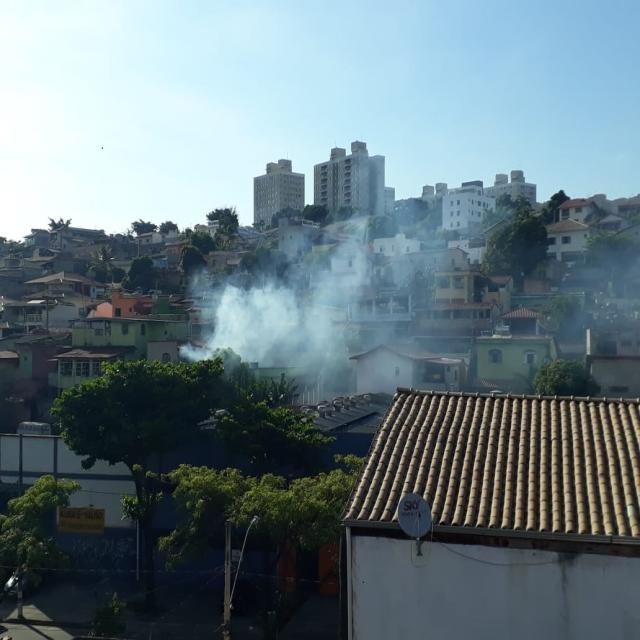Smoke: (188, 217, 446, 405), (561, 225, 640, 364)
